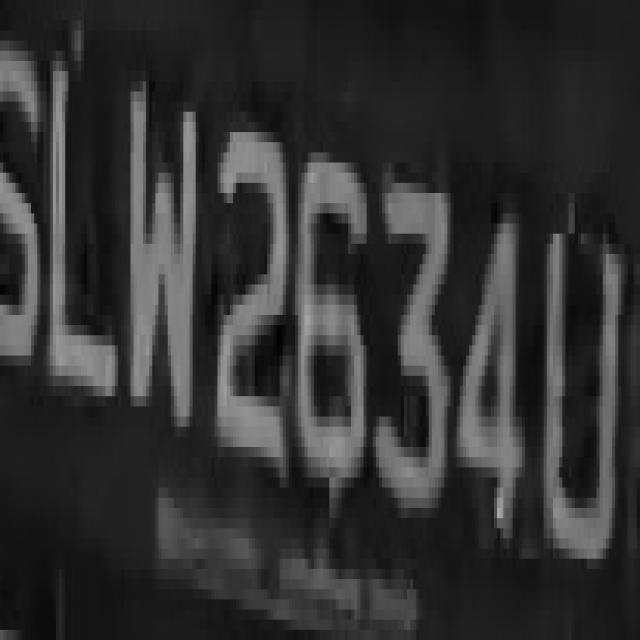2: (208, 81, 286, 518)
3: (367, 112, 444, 528)
4: (441, 142, 531, 559)
6: (283, 132, 373, 508)
L: (43, 30, 115, 437)
S: (3, 31, 44, 407)
U: (534, 163, 624, 589)
W: (115, 51, 202, 447)
